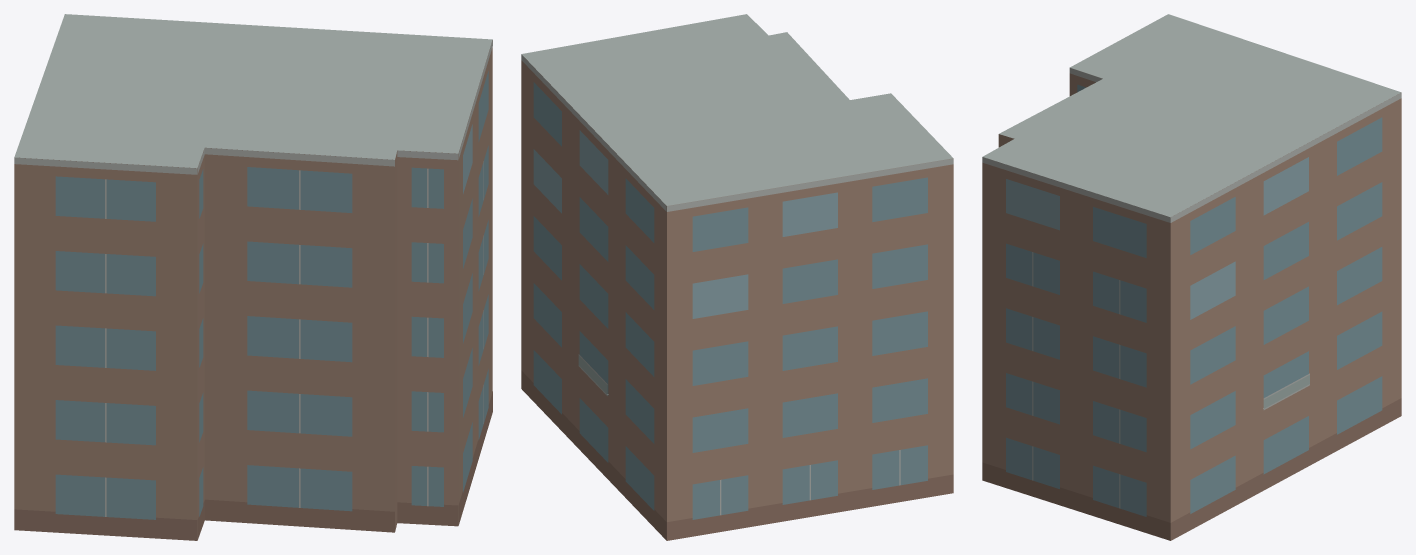
Rendered from survey-upis-32881877.glb.
3 renders of one model, left to right at view 1: azimuth 30°, elevation 25°; view 2: azimuth 150°, elevation 25°; view 3: azimuth 270°, elevation 25°, orthographic. The views are drawn at different scales.
Visible parts, largest first — view 1: survey-upis-32881877.tmp; view 2: survey-upis-32881877.tmp; view 3: survey-upis-32881877.tmp.
Boxes of the visible parts, x1=… form: survey-upis-32881877.tmp: x1=14, y1=14, x2=492, y2=540; survey-upis-32881877.tmp: x1=521, y1=14, x2=953, y2=540; survey-upis-32881877.tmp: x1=982, y1=14, x2=1401, y2=540.
Bounding box in the file's own units: 18.47 × 13.7 × 16.09.
